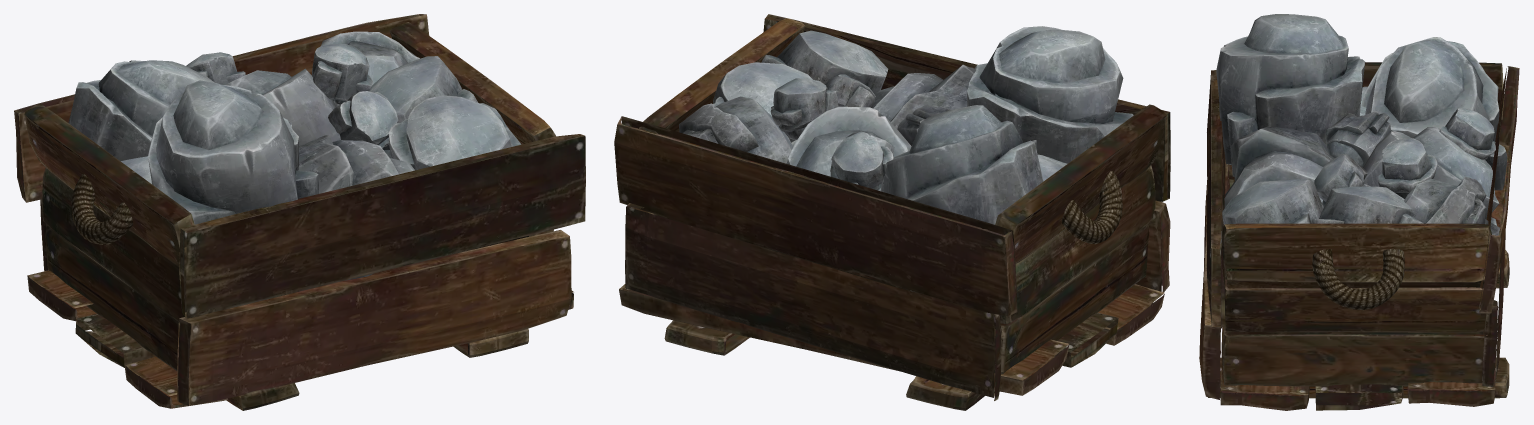
3 views of the same model, side by side, from view 1: azimuth 30°, elevation 25°; view 2: azimuth 150°, elevation 25°; view 3: azimuth 270°, elevation 25° (orthographic). The views are drawn at different scales.
Parts seen in each view (by area): view 1: SM_Dec_Garou_Chest_Silver_Small_LOD0; view 2: SM_Dec_Garou_Chest_Silver_Small_LOD0; view 3: SM_Dec_Garou_Chest_Silver_Small_LOD0.
Part boxes in pixels (<box>): SM_Dec_Garou_Chest_Silver_Small_LOD0: <box>14,14,585,410</box>; SM_Dec_Garou_Chest_Silver_Small_LOD0: <box>614,14,1170,410</box>; SM_Dec_Garou_Chest_Silver_Small_LOD0: <box>1199,14,1519,410</box>.
Bounding box in the file's own units: 0.9929 × 0.6132 × 0.6922.
Materials: 3 (3 with a texture image).
